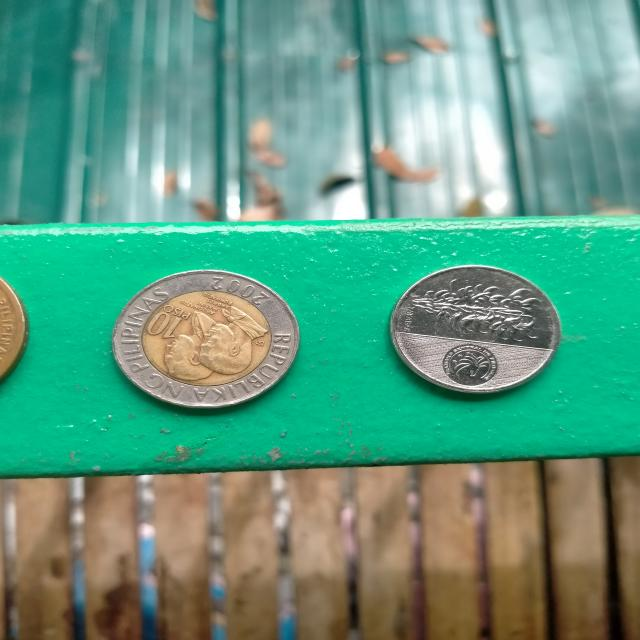10_Old_Front: (142, 300, 201, 343)
5_New_Back: (421, 278, 534, 344)
